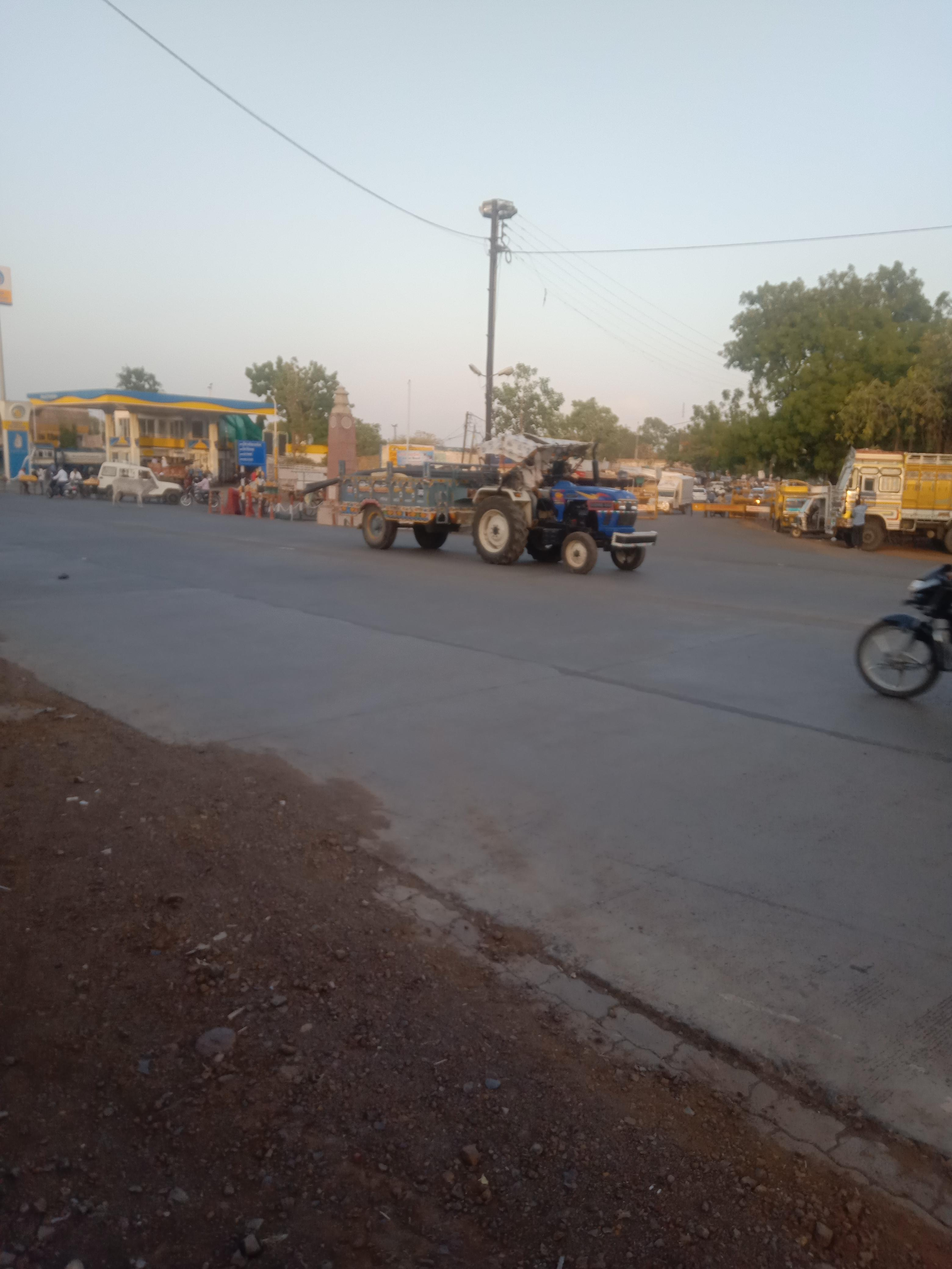Non-emergency: (267, 392, 688, 606)
